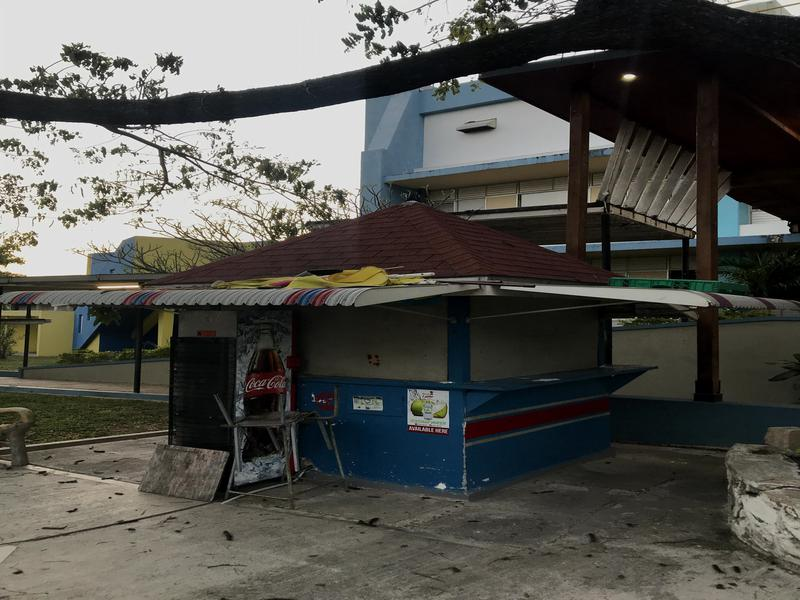18.0051667_-76.74944412_librarystall: (110, 190, 667, 508)
